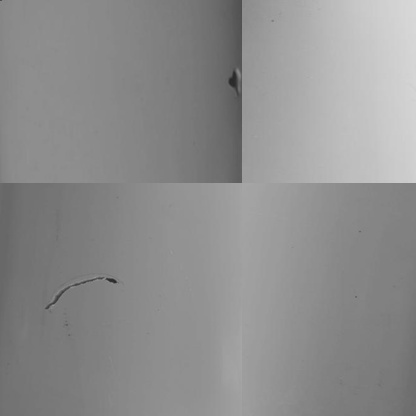fengxi: (45, 272, 117, 310)
kongdong: (225, 66, 243, 95)
